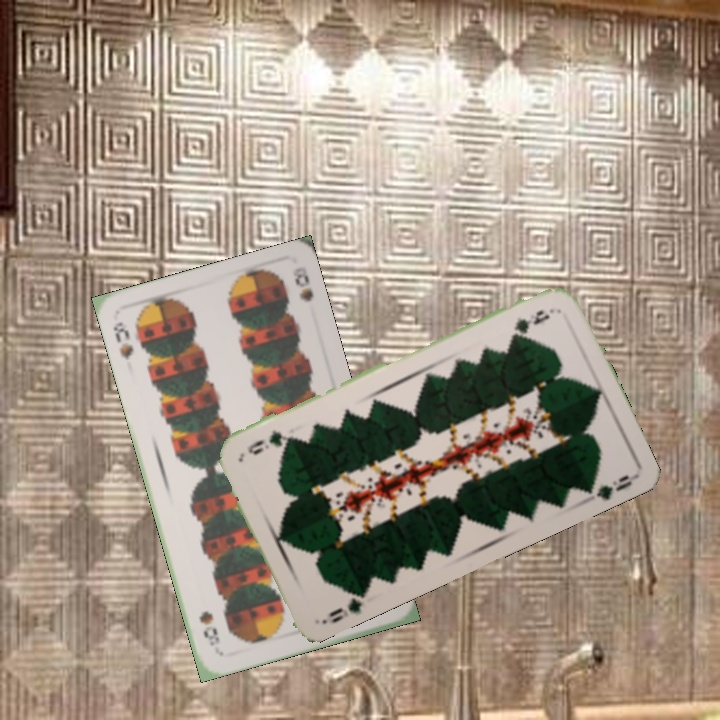G9: (324, 583, 369, 626), (507, 304, 557, 340)
S8: (109, 317, 136, 362)
